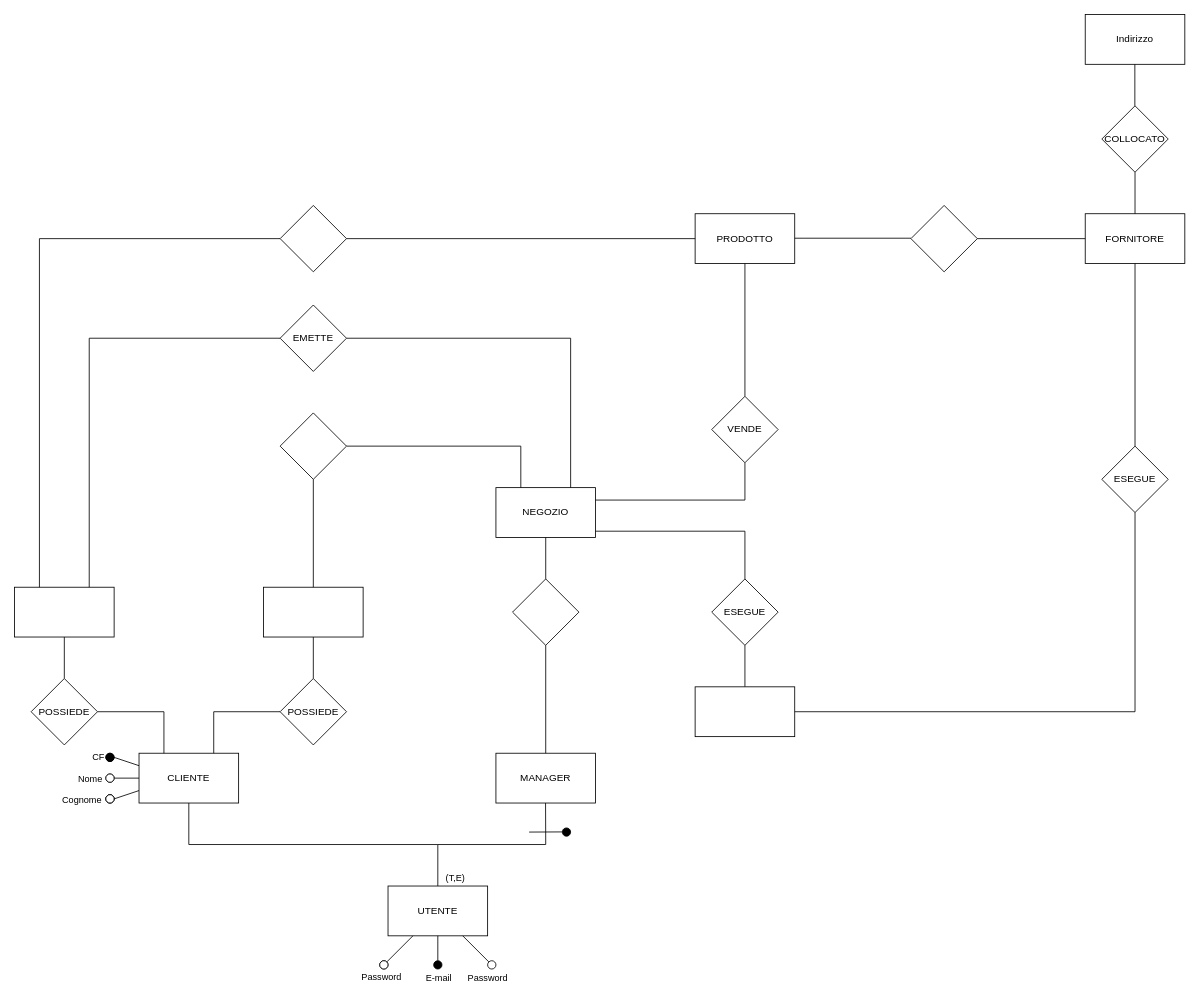
Image size: 1199x998. Some labels were removed from this diagram. Here are the shapes that lost their labels. From the top down, the box of each, then its label:
(279, 205, 347, 272): CONTIENE
(910, 205, 977, 272): FORNISCE
(279, 412, 347, 479): RILASCIA
(14, 586, 114, 637): FATTURA
(263, 586, 363, 637): TESSERA
(512, 578, 579, 645): GESTISCE
(694, 686, 795, 737): ORDINE
